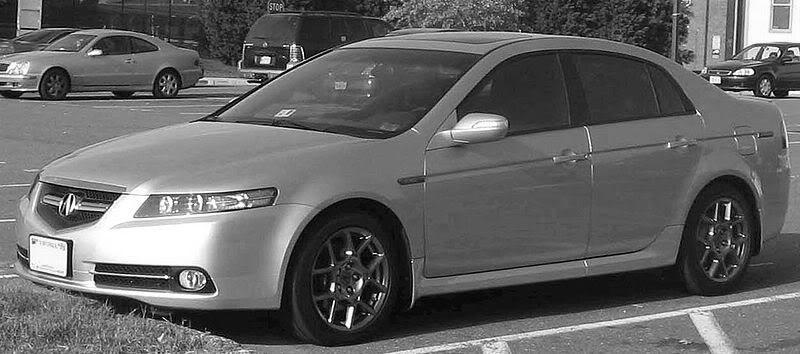car: (13, 29, 795, 350)
